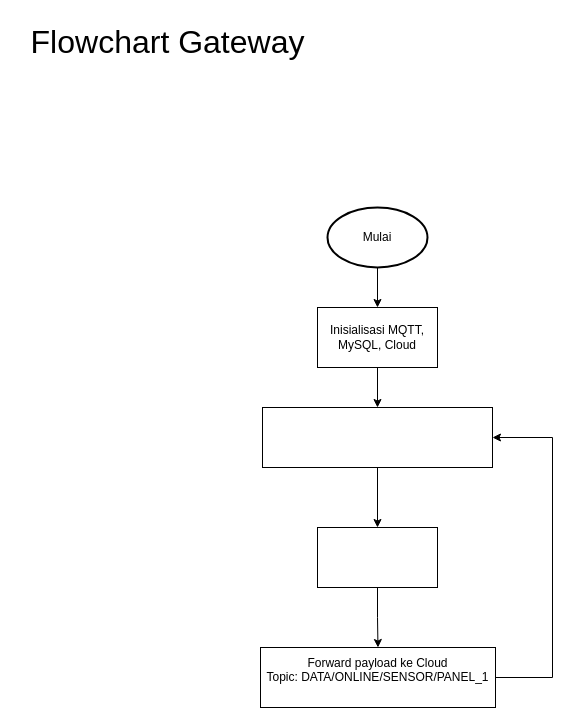
Some shapes in this 578 by 725 pixel diagram are drawn without their labels. Each missing label, with the box of its shape:
Menerima data dari Topic: DATA/LOCAL/SENSOR/PANEL_1: (262, 406, 492, 468)
Menyimpan data ke MySQL: (316, 526, 438, 588)
